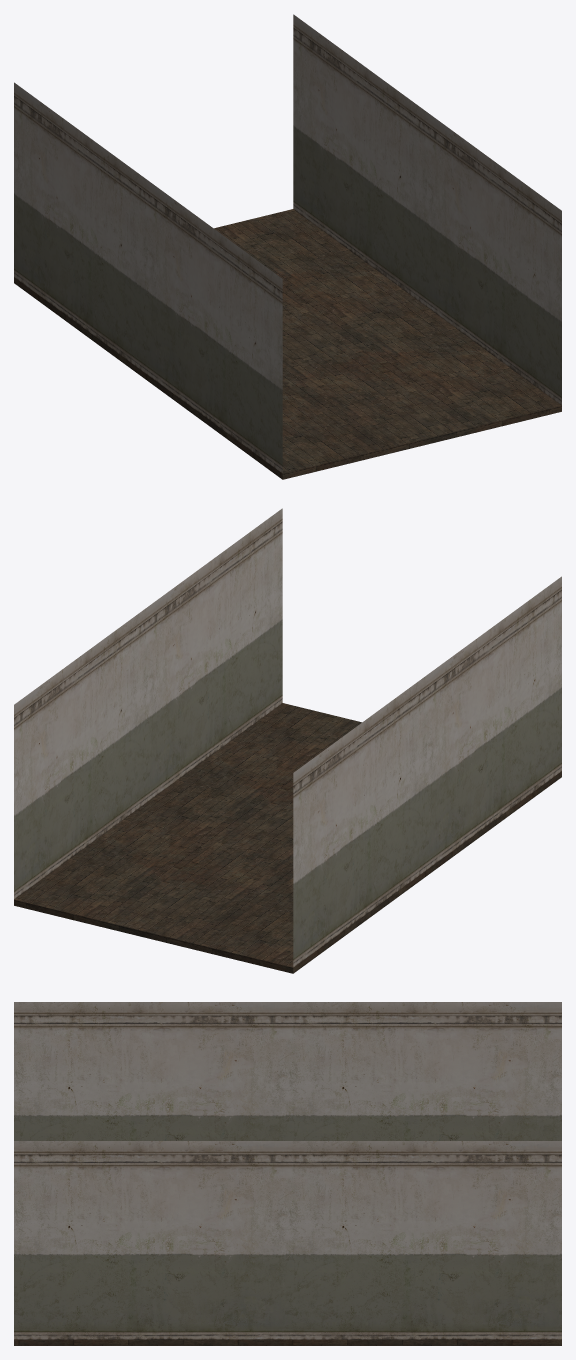
The model's file is hallway_finished_10m.fbx.
3 views of the same model, one above another, from view 1: azimuth 30°, elevation 25°; view 2: azimuth 150°, elevation 25°; view 3: azimuth 270°, elevation 25° (orthographic).
Visible parts, largest first — view 1: hallway_finished_10m; view 2: hallway_finished_10m; view 3: hallway_finished_10m.
Boxes of the visible parts, x1,y1,x2,y2 form: hallway_finished_10m: [14, 14, 561, 479]; hallway_finished_10m: [14, 508, 561, 973]; hallway_finished_10m: [14, 1002, 561, 1345].
Bounding box in the file's own units: 600 × 412 × 1000.
